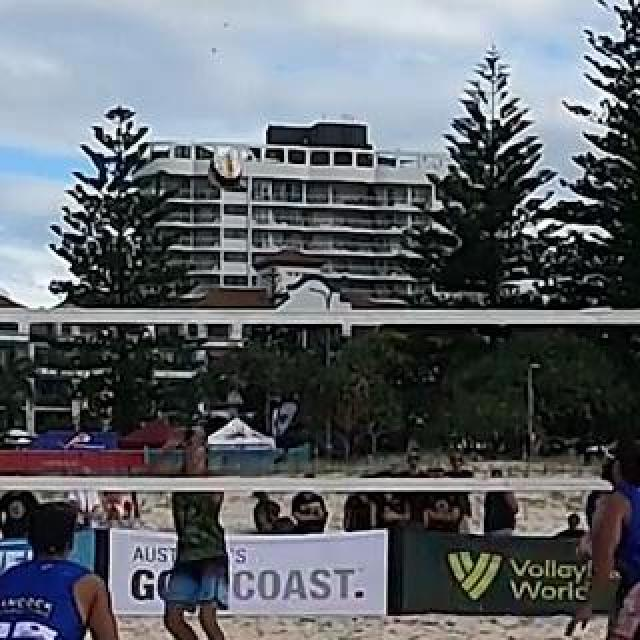volleyball: (209, 156, 241, 186)
